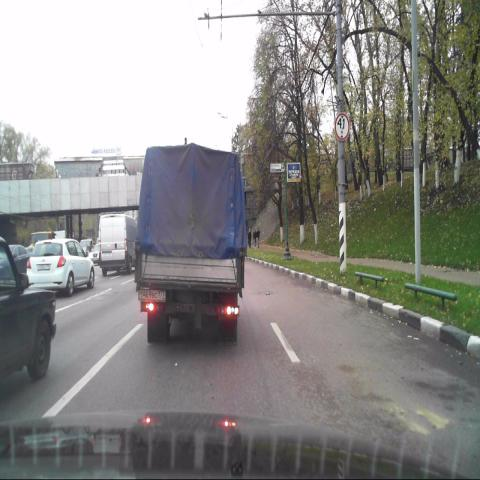3_13: (334, 112, 350, 139)
